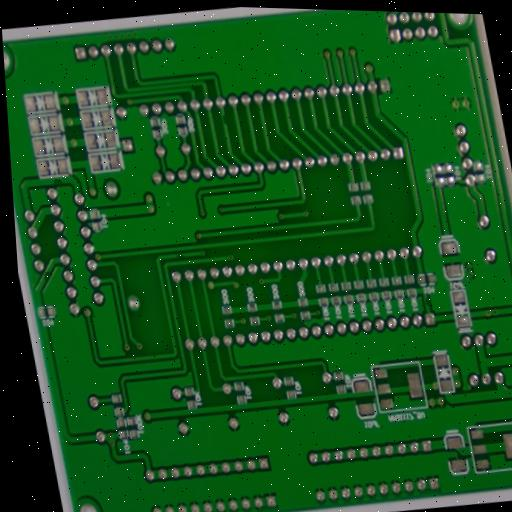mouse_bite: (40, 267, 55, 283), (172, 249, 188, 263), (50, 176, 66, 188), (220, 112, 231, 128), (423, 294, 434, 310)
